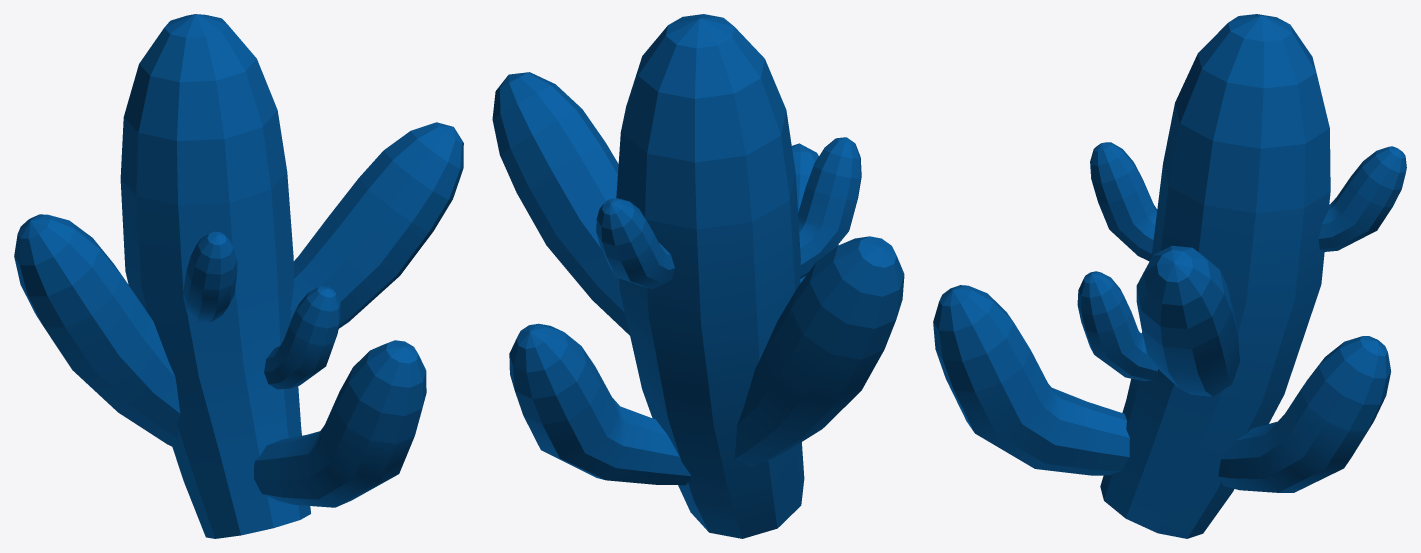
Rendered from Moon_Cactus_2.fbx.
The picture shows the model from 3 angles, left to right: view 1: azimuth 30°, elevation 25°; view 2: azimuth 150°, elevation 25°; view 3: azimuth 270°, elevation 25°; orthographic projection. The views are drawn at different scales.
Visible parts, largest first — view 1: Moon_Cactus_2; view 2: Moon_Cactus_2; view 3: Moon_Cactus_2.
Part boxes in pixels (x1,y1,x2,y2): Moon_Cactus_2: [14, 14, 463, 538]; Moon_Cactus_2: [492, 14, 904, 538]; Moon_Cactus_2: [933, 14, 1406, 538].
Bounding box in the file's own units: 42.14 × 49.28 × 41.63.
